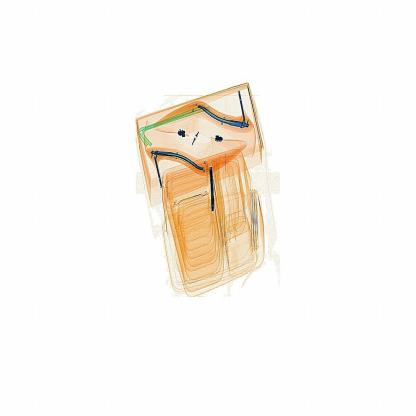knife: (194, 160, 226, 215)
